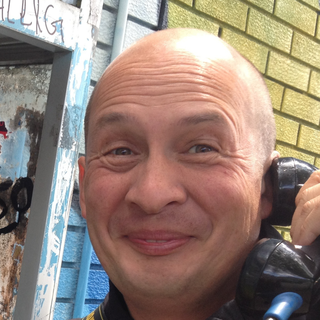eye: (175, 135, 228, 164), (93, 139, 147, 167)
